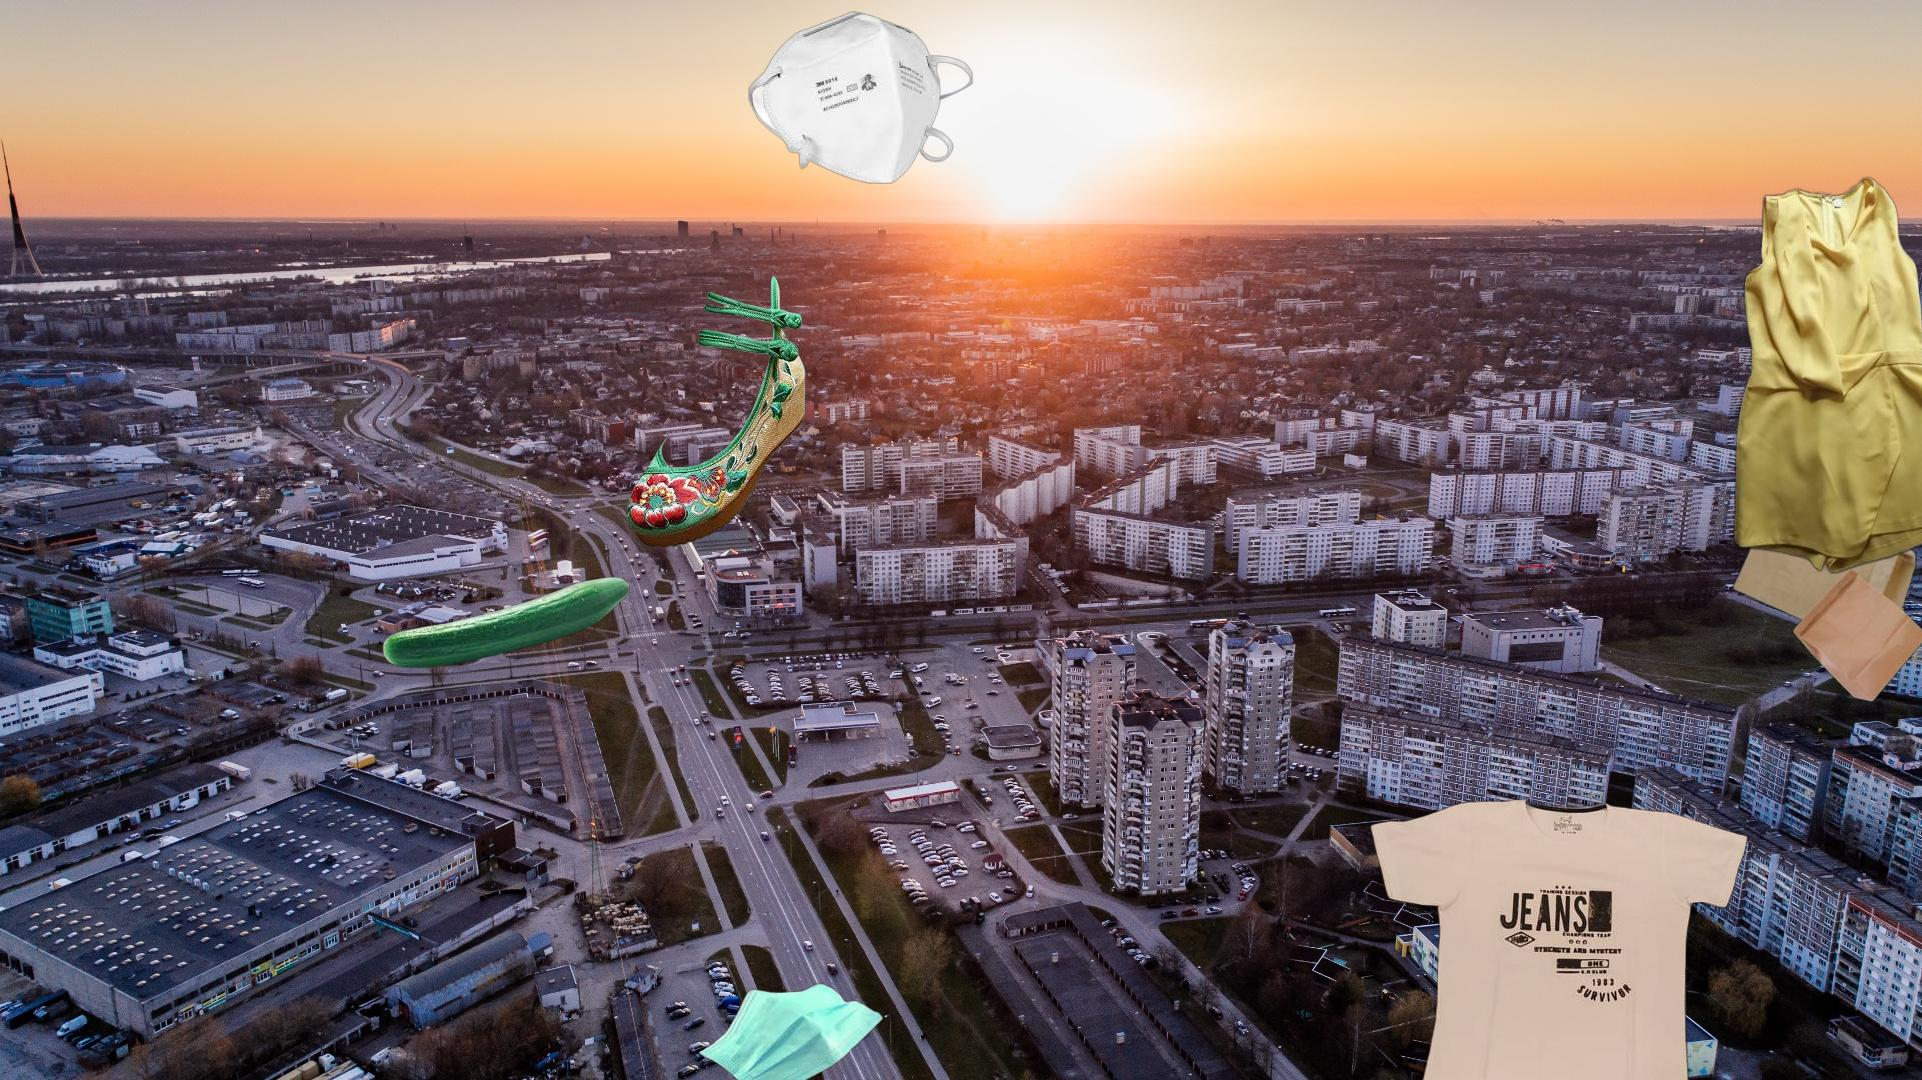biological: (380, 574, 632, 671)
clothes: (1366, 796, 1752, 1080), (1729, 172, 1922, 577)
paper-bag: (1729, 491, 1922, 705)
shoes: (624, 273, 807, 549)
trash: (748, 9, 973, 186), (694, 982, 898, 1080)
